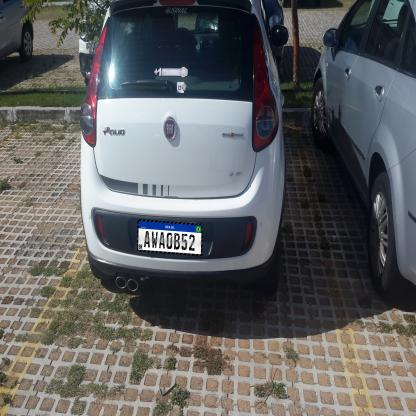PlacaM: (137, 219, 203, 256)
